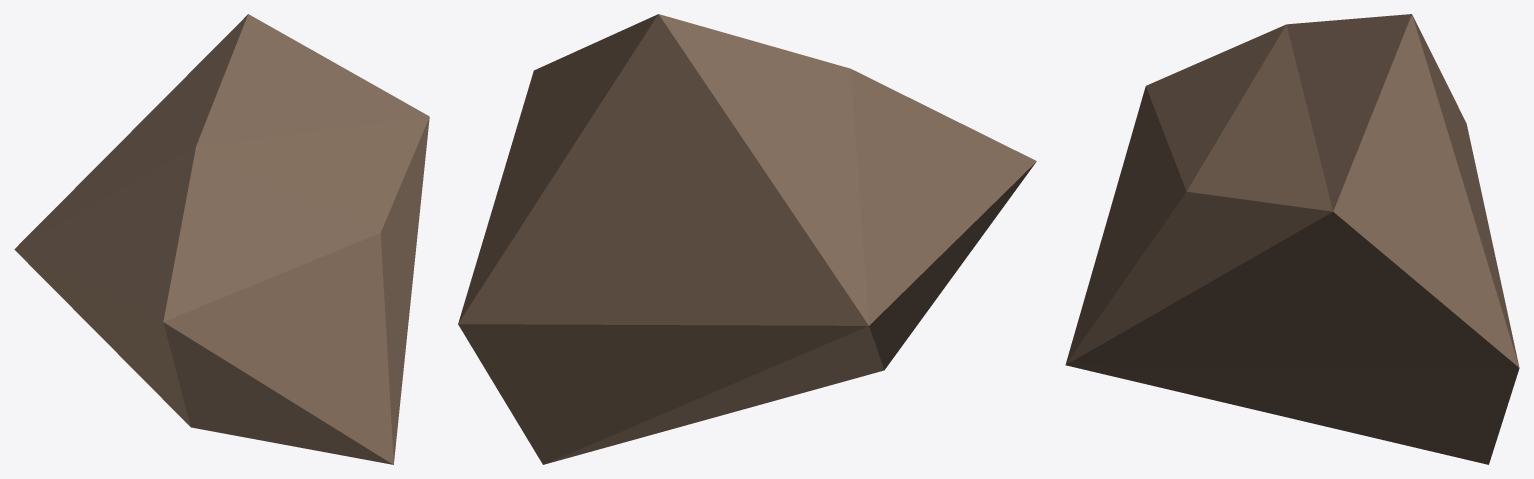
The model's file is RoundRock3.fbx.
3 renders of one model, left to right at view 1: azimuth 30°, elevation 25°; view 2: azimuth 150°, elevation 25°; view 3: azimuth 270°, elevation 25°, orthographic. The views are drawn at different scales.
Visible parts, largest first — view 1: RoundRock3; view 2: RoundRock3; view 3: RoundRock3.
Boxes of the visible parts, bbox=[...] form: RoundRock3: bbox=[14, 14, 429, 464]; RoundRock3: bbox=[458, 14, 1036, 464]; RoundRock3: bbox=[1065, 14, 1519, 464].
Size of the model in its own units: 17.05 by 17.66 by 17.46.
